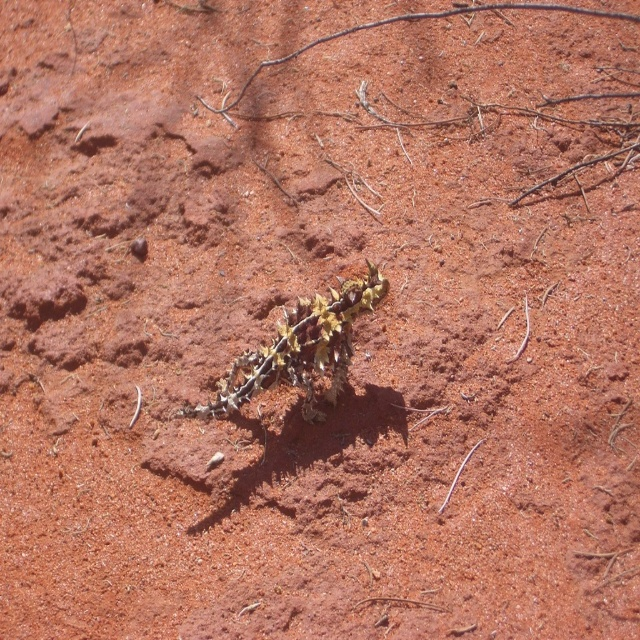Lizard: (173, 254, 390, 421)
